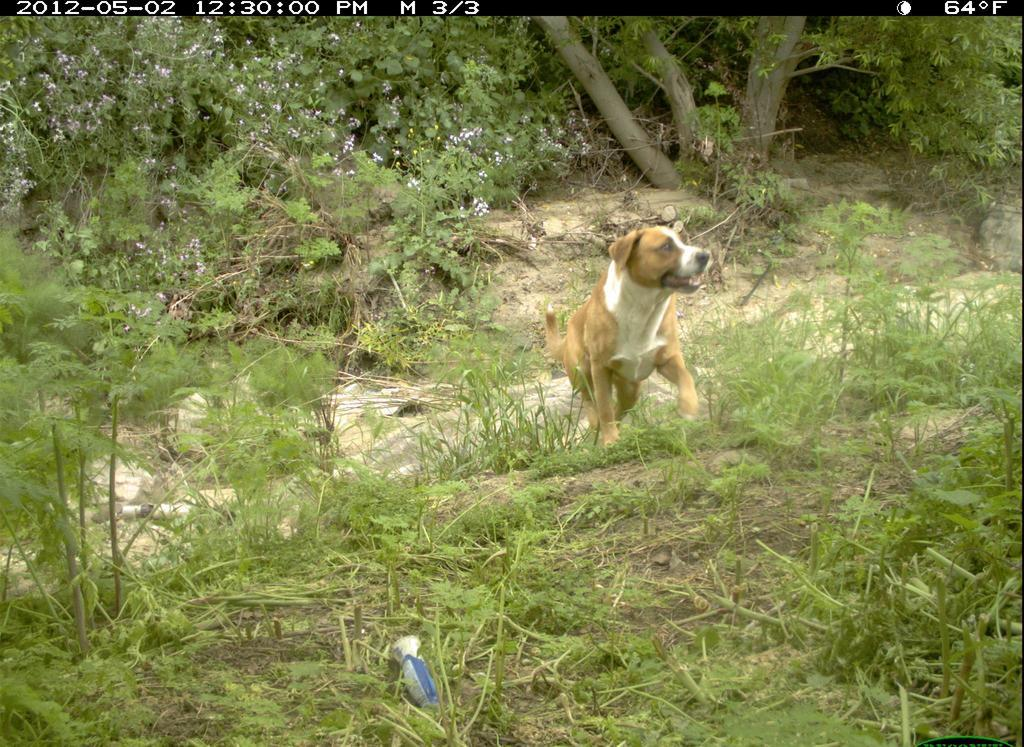dog: (541, 221, 716, 456)
